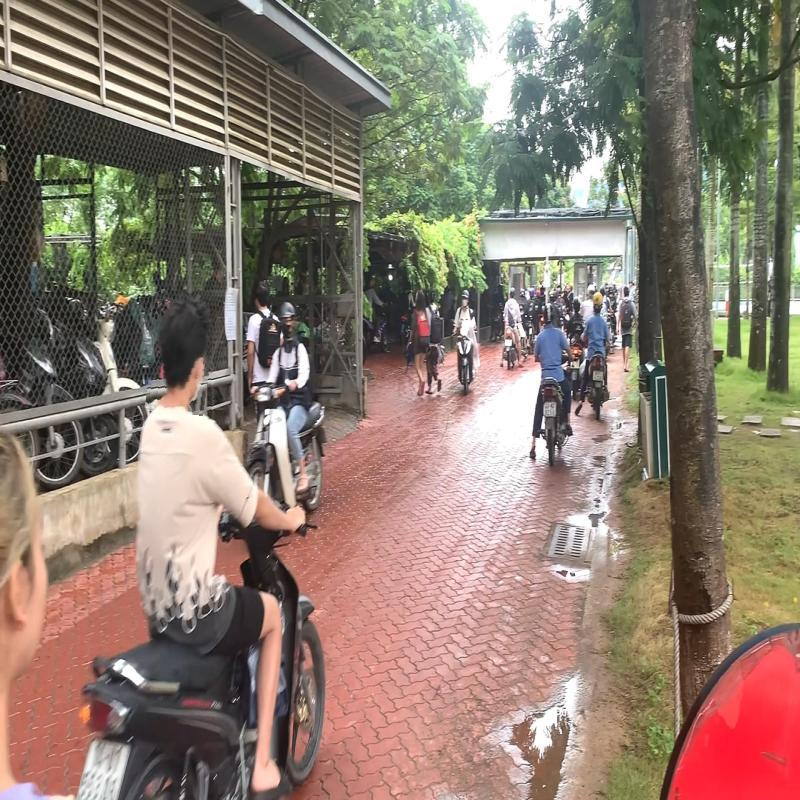nohelmet: (148, 290, 215, 414)
